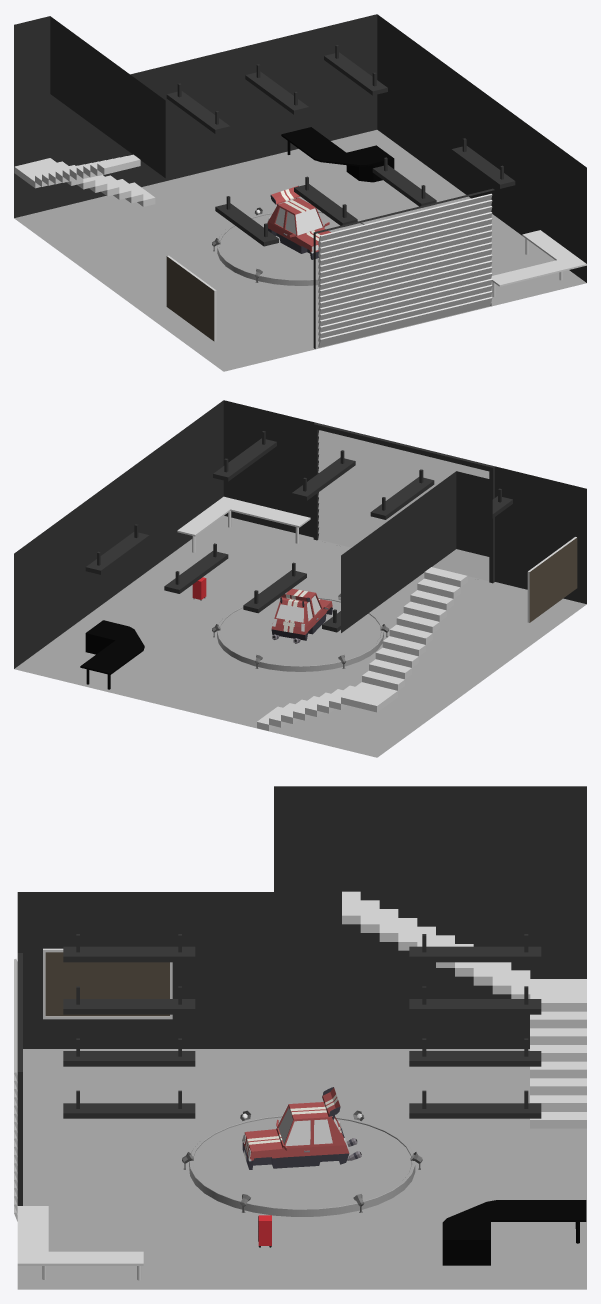
Rendered from garage.fbx.
3 renders of one model, top to bottom at view 1: azimuth 30°, elevation 25°; view 2: azimuth 150°, elevation 25°; view 3: azimuth 270°, elevation 25°, orthographic. The views are drawn at different scales.
Visible parts, largest first — view 1: walls, door, Plateform, light.001, light, billboard, desk, voiture, lower stairs, workbench, Upper stairs; view 2: walls, door, Plateform, Upper stairs, light.001, light, lower stairs, billboard, desk, voiture, workbench; view 3: walls, Plateform, light, light.001, lower stairs, billboard, Upper stairs, voiture, desk, workbench, door.
Boxes of the visible parts, box(x1,y1,x2,y2) form: walls: box(14, 14, 586, 371); door: box(318, 193, 492, 347); Plateform: box(217, 211, 366, 285); light.001: box(215, 138, 515, 246); light: box(166, 45, 387, 133); billboard: box(166, 255, 216, 341); desk: box(281, 127, 394, 182); voiture: box(267, 198, 330, 259); lower stairs: box(14, 158, 155, 206); workbench: box(491, 230, 586, 297); Upper stairs: box(35, 154, 140, 186); walls: box(14, 400, 586, 757); door: box(318, 430, 489, 580); Plateform: box(217, 596, 383, 671); Upper stairs: box(362, 567, 467, 690); light.001: box(213, 431, 512, 519); light: box(85, 524, 340, 632); lower stairs: box(257, 682, 397, 730); billboard: box(527, 537, 577, 622); desk: box(80, 620, 144, 689); voiture: box(271, 588, 333, 640); workbench: box(177, 496, 310, 552); walls: box(17, 786, 586, 1289); Plateform: box(189, 1114, 415, 1216); light: box(409, 934, 541, 1118); light.001: box(63, 934, 195, 1118); lower stairs: box(530, 979, 586, 1128); billboard: box(43, 948, 172, 1019); Upper stairs: box(342, 891, 530, 998); voiture: box(242, 1102, 349, 1169); desk: box(442, 1200, 586, 1265); workbench: box(17, 1206, 143, 1280); door: box(14, 959, 17, 1221).
Bounding box in the file's own units: 24.26 × 24.11 × 12.38.
